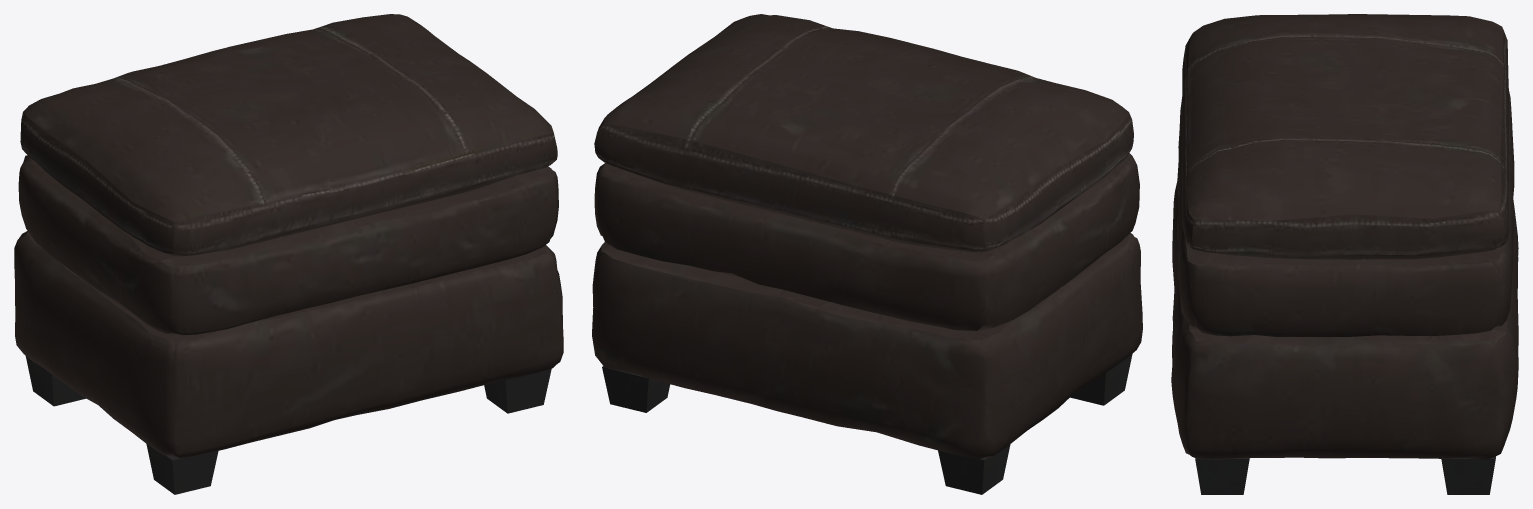
The model's file is Ottoman_01.glb.
The picture shows the model from 3 angles, left to right: view 1: azimuth 30°, elevation 25°; view 2: azimuth 150°, elevation 25°; view 3: azimuth 270°, elevation 25°; orthographic projection.
Parts seen in each view (by area): view 1: Ottoman_01; view 2: Ottoman_01; view 3: Ottoman_01.
Boxes of the visible parts, x1=… form: Ottoman_01: x1=14, y1=14, x2=563, y2=494; Ottoman_01: x1=592, y1=14, x2=1142, y2=494; Ottoman_01: x1=1171, y1=14, x2=1518, y2=494.
Bounding box in the file's own units: 0.8846 × 0.6243 × 0.6212.
Materials: 1 (1 with a texture image).
